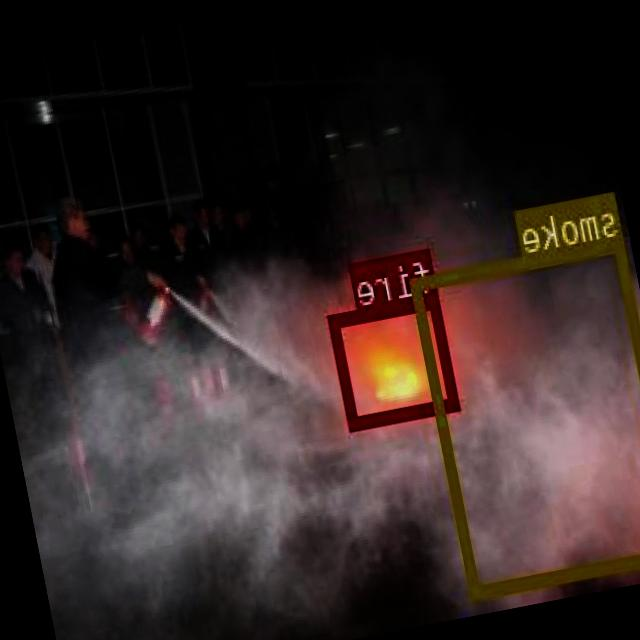fire: (331, 292, 462, 428)
smoke: (412, 236, 640, 595)
